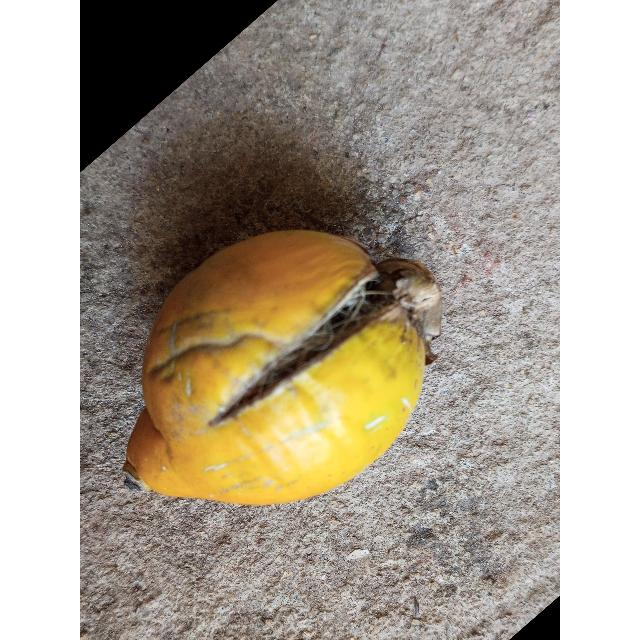damaged: (123, 231, 442, 504)
